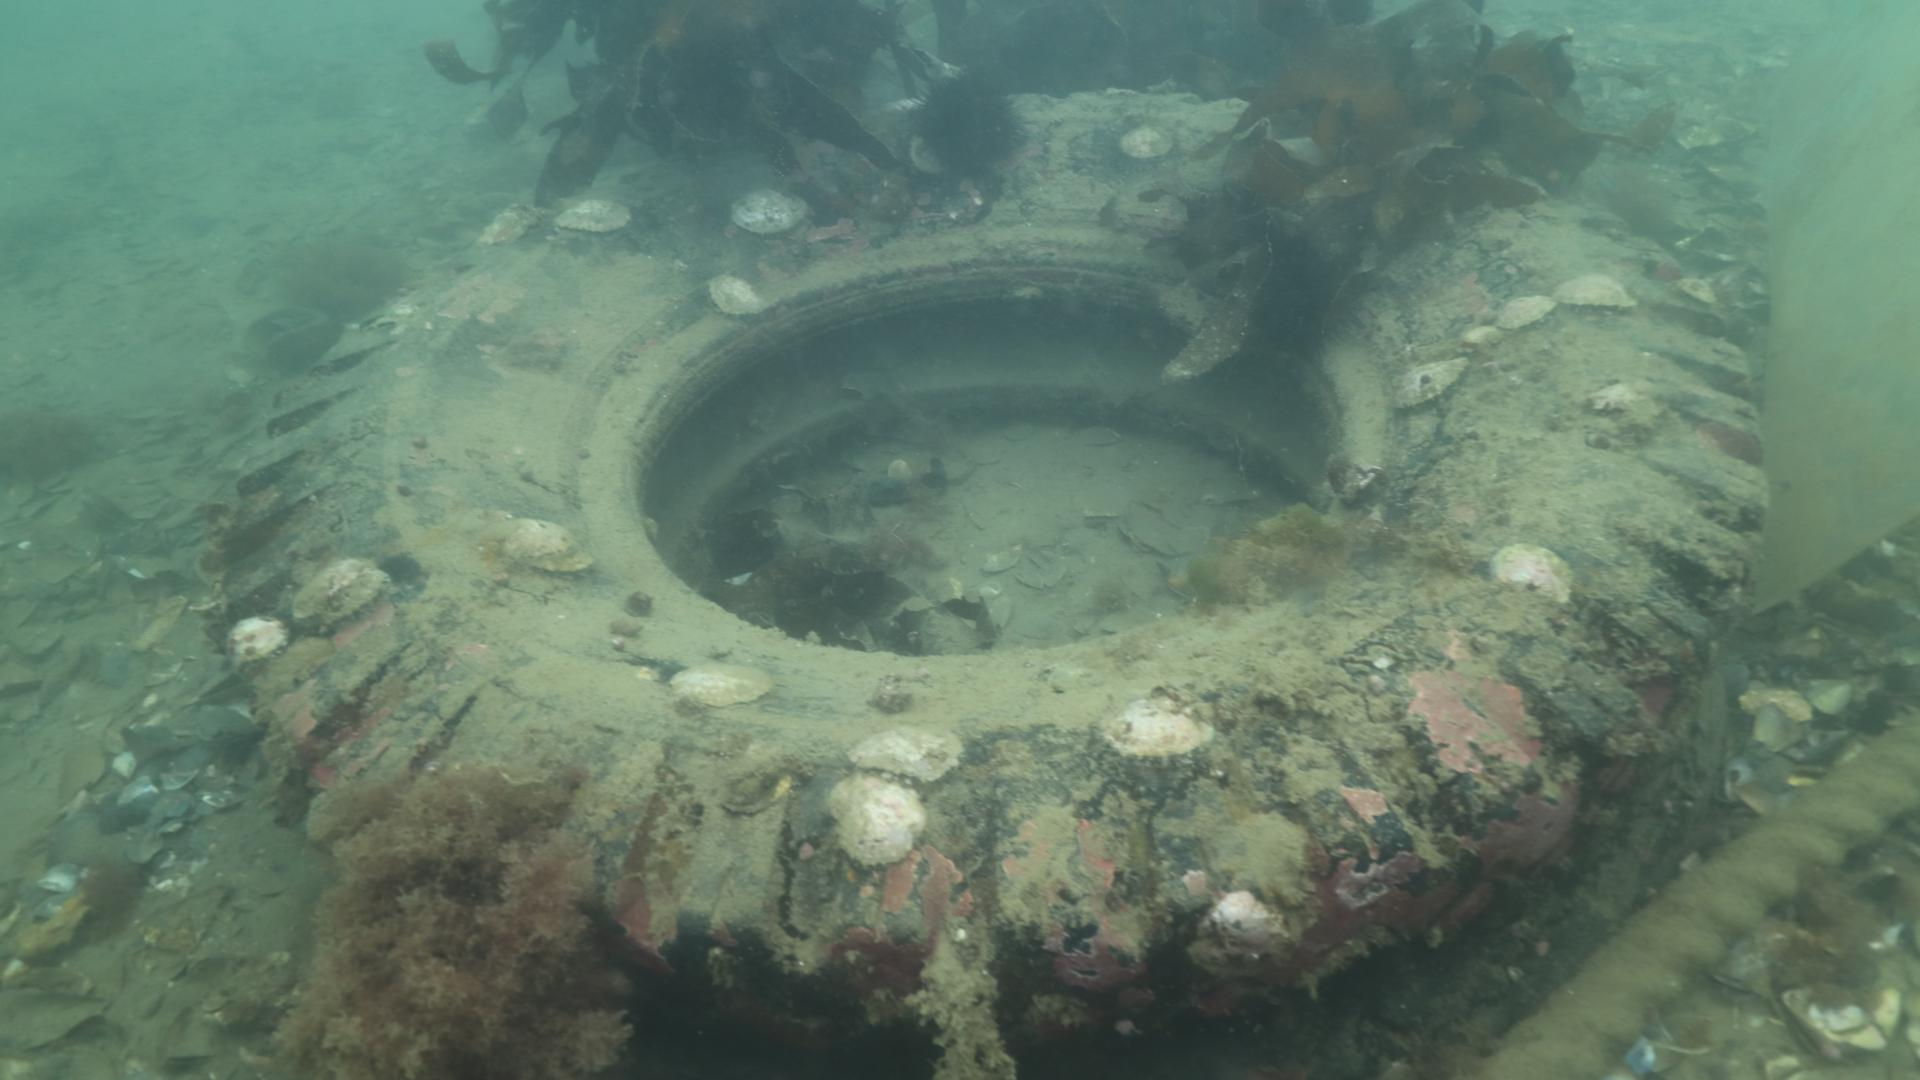rope: (1473, 705, 1920, 1080)
tire: (219, 84, 1771, 1080)
